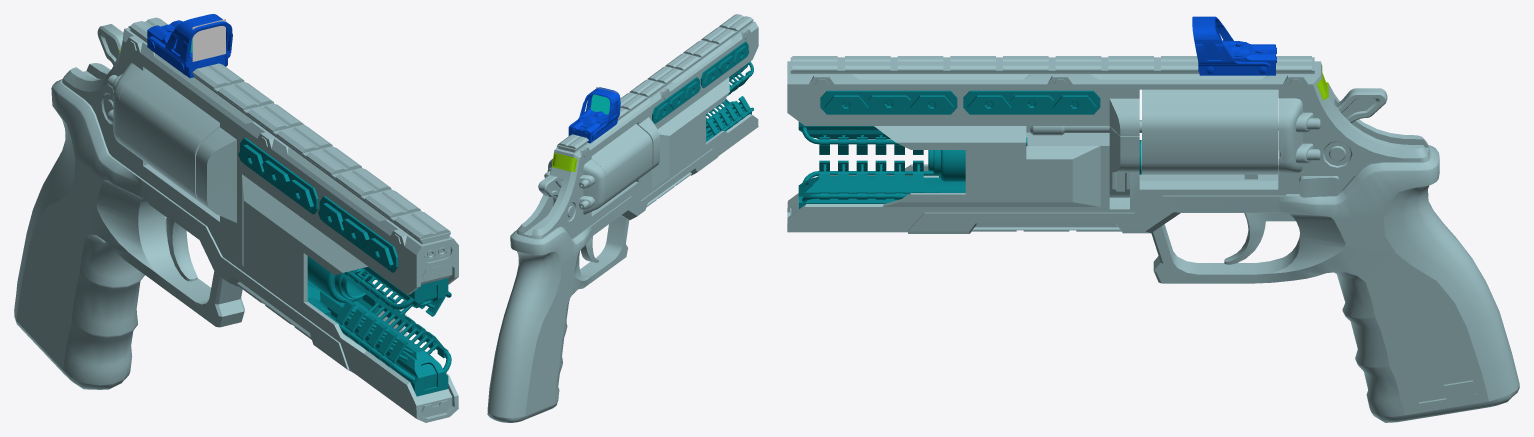
Rendered from Revolver.fbx.
3 renders of one model, left to right at view 1: azimuth 30°, elevation 25°; view 2: azimuth 150°, elevation 25°; view 3: azimuth 270°, elevation 25°, orthographic. The views are drawn at different scales.
Visible parts, largest first — view 1: Receiver_1, RailGunBarrelSF, Drum, CollimatorSf, CollimatorReticle001; view 2: Receiver_1, RailGunBarrelSF, Drum, CollimatorSf, VATSmod_Sf, GlassSf; view 3: Receiver_1, RailGunBarrelSF, Drum, CollimatorSf, Extractor.
Boxes of the visible parts, x1,y1,x2,y2 form: Receiver_1: (14, 17, 458, 422); RailGunBarrelSF: (238, 137, 451, 396); Drum: (119, 68, 219, 201); CollimatorSf: (147, 14, 232, 78); CollimatorReticle001: (192, 19, 225, 61); Receiver_1: (487, 14, 758, 422); RailGunBarrelSF: (652, 41, 753, 141); Drum: (591, 124, 652, 203); CollimatorSf: (568, 87, 620, 143); VATSmod_Sf: (551, 152, 577, 171); GlassSf: (590, 94, 609, 114); Receiver_1: (787, 56, 1519, 422); RailGunBarrelSF: (798, 90, 1141, 208); Drum: (1142, 89, 1277, 174); CollimatorSf: (1192, 16, 1276, 75); Extractor: (1030, 120, 1278, 197).
Size of the model in its own units: 7.81 by 36.56 by 61.34.
